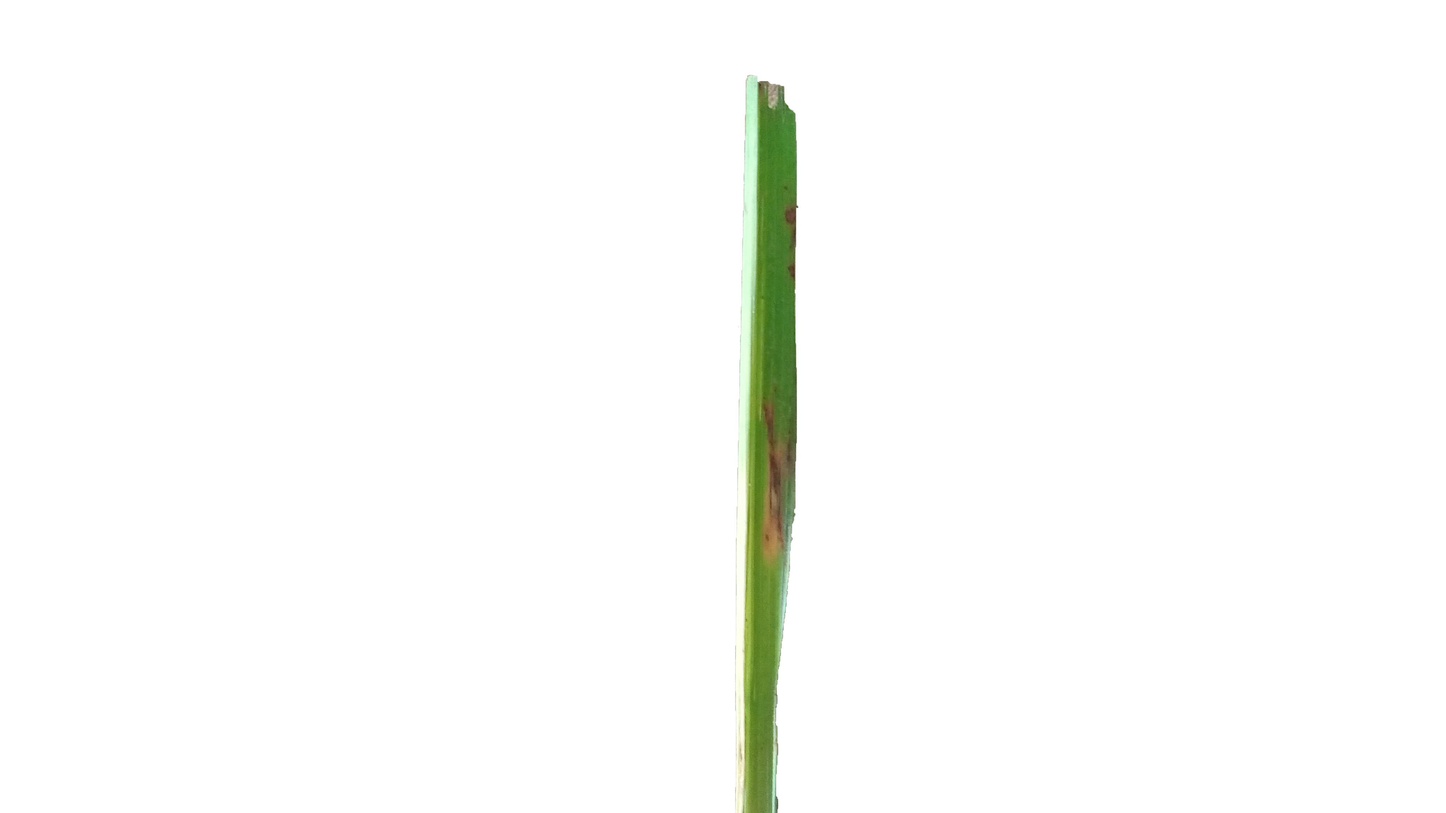Rice blast: (756, 382, 796, 567), (782, 196, 796, 285)
